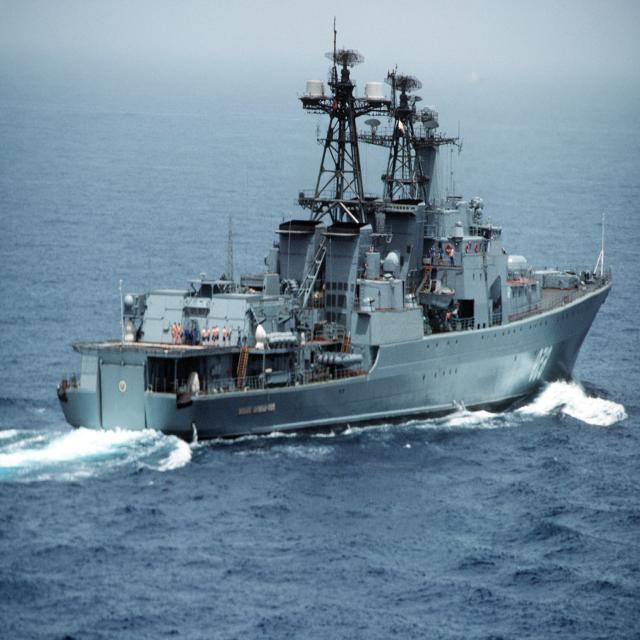navalvessels: (66, 52, 614, 440)
